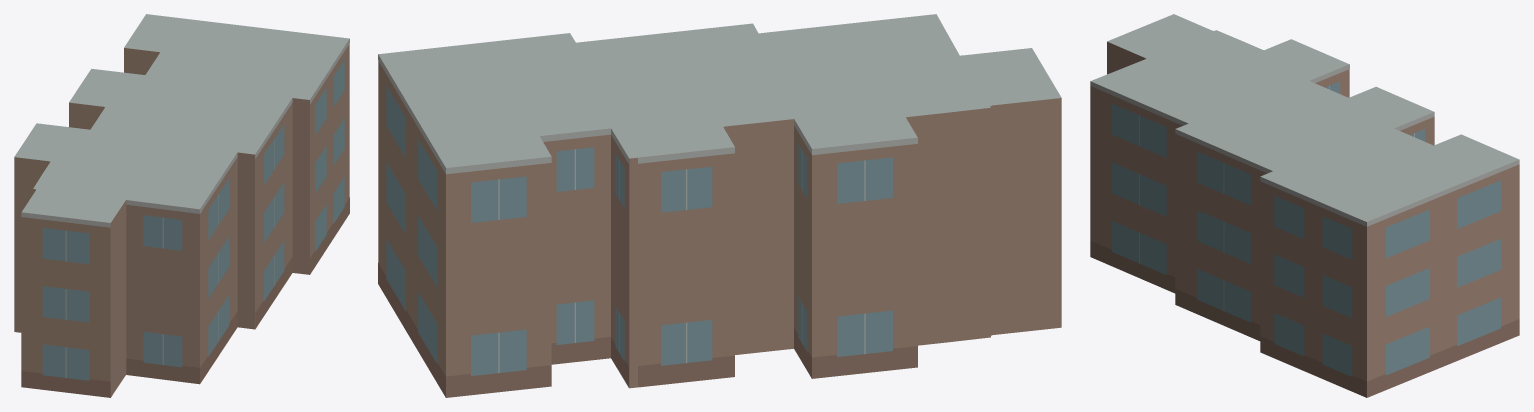
File: survey-upis-33035439.glb
The picture shows the model from 3 angles, left to right: view 1: azimuth 30°, elevation 25°; view 2: azimuth 150°, elevation 25°; view 3: azimuth 270°, elevation 25°; orthographic projection. The views are drawn at different scales.
Visible parts, largest first — view 1: survey-upis-33035439.tmp; view 2: survey-upis-33035439.tmp; view 3: survey-upis-33035439.tmp.
Part boxes in pixels (<box>): survey-upis-33035439.tmp: <box>14,14,349,397</box>; survey-upis-33035439.tmp: <box>378,14,1061,397</box>; survey-upis-33035439.tmp: <box>1090,14,1519,397</box>.
Size of the model in its own units: 23.25 by 9.15 by 20.26.
